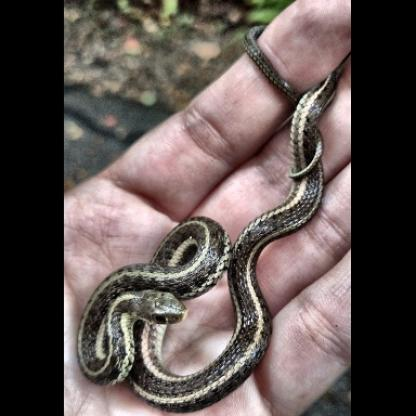Snake: (72, 208, 283, 410), (98, 278, 191, 352)
